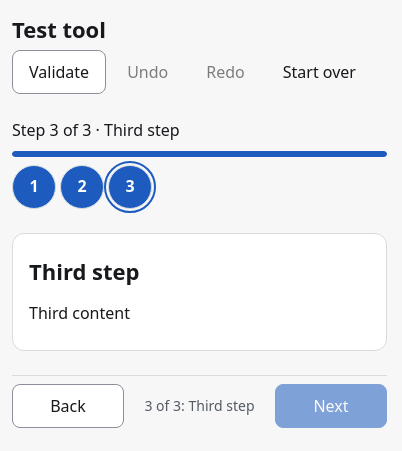
Scenario: Wizard › lets the user jump back to a reached step from the stepper
The image size is (402, 451).
Click the button named "First step".
click(34, 187)  # box [12, 165, 56, 209]
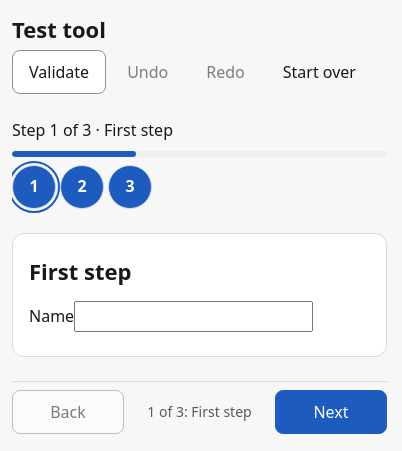
Expected: the button named "Third step" is shown, [108, 165, 152, 209]
Result: the heading reads "First step" at [29, 256, 131, 286]
